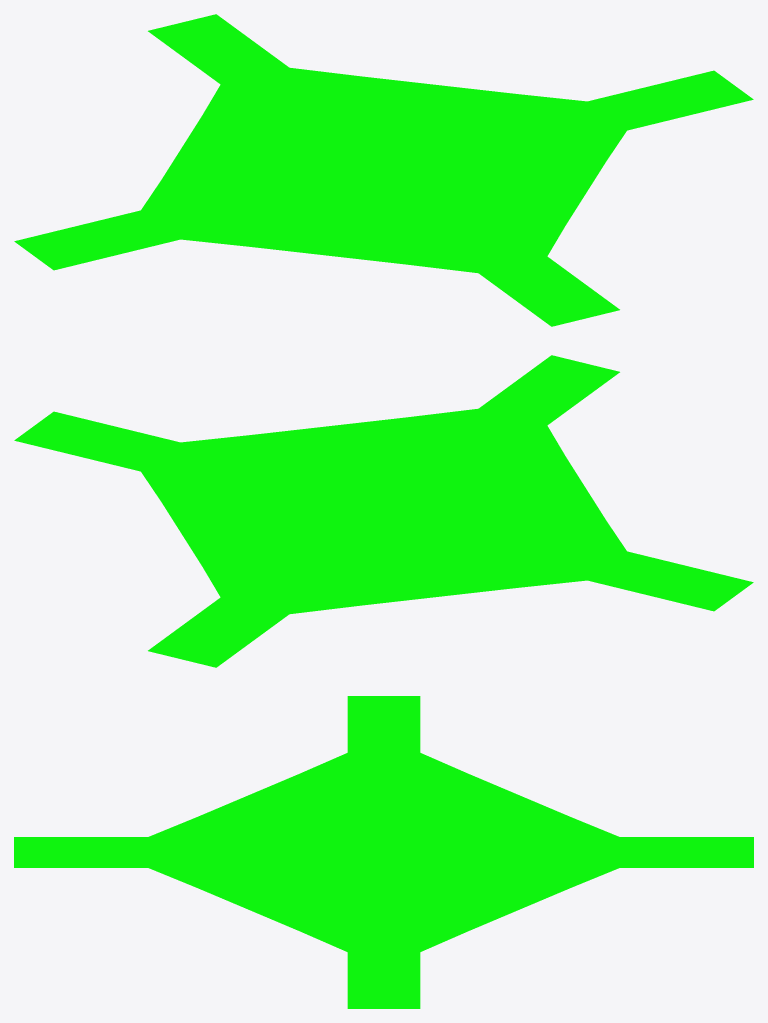
The model's file is s07a_xb2-floor.glb.
3 views of the same model, one above another, from view 1: azimuth 30°, elevation 25°; view 2: azimuth 150°, elevation 25°; view 3: azimuth 270°, elevation 25° (orthographic). The views are drawn at different scales.
Parts seen in each view (by area): view 1: collision_floor-colonly; view 2: collision_floor-colonly; view 3: collision_floor-colonly.
Boxes of the visible parts, box(x1,y1,x2,y2) form: collision_floor-colonly: box(14, 14, 753, 326); collision_floor-colonly: box(14, 355, 753, 667); collision_floor-colonly: box(14, 696, 753, 1008).
Size of the model in its own units: 60.93 by 0 by 60.93.
